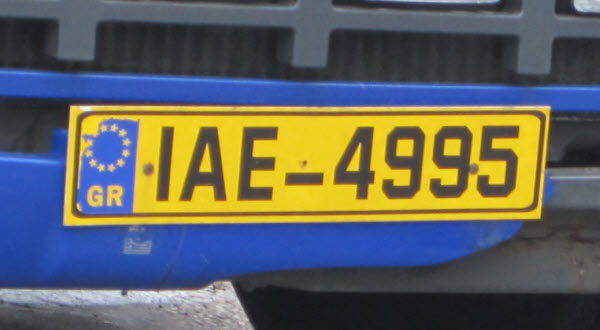license_plate: (62, 102, 551, 223)
